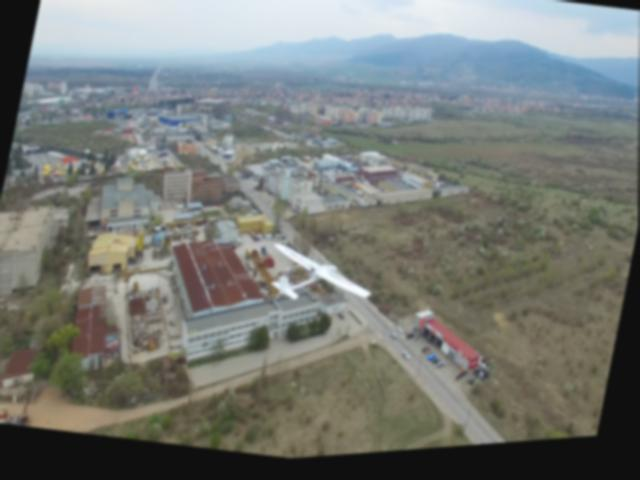plane: (264, 238, 380, 319)
